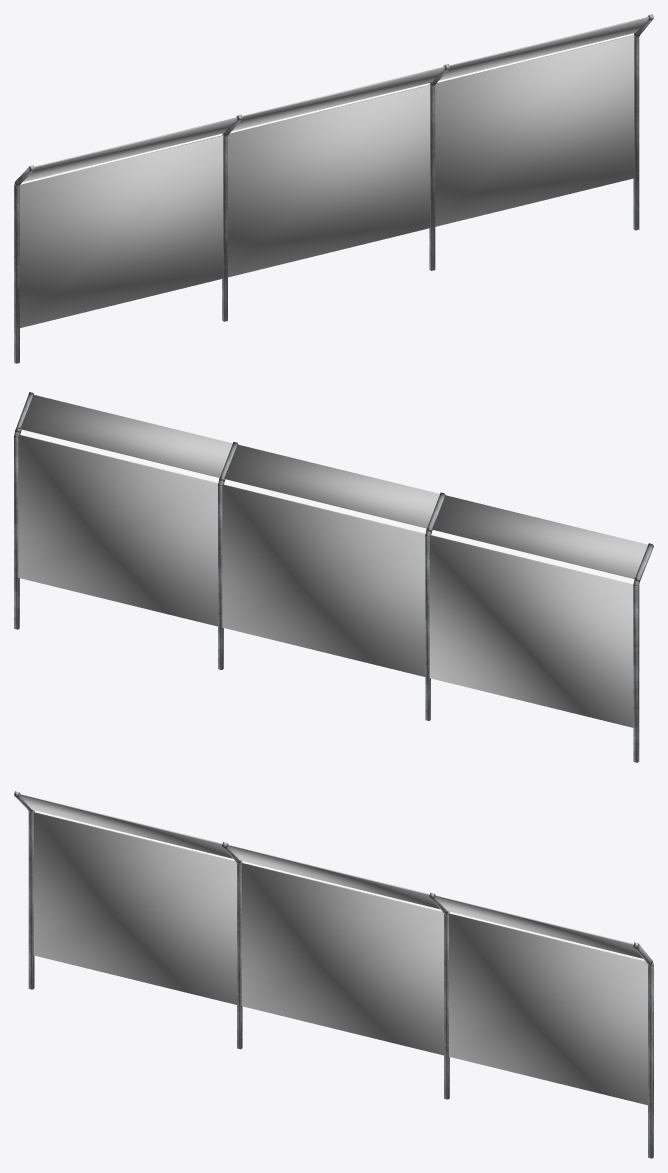
The model's file is fence1.fbx.
The picture shows the model from 3 angles, top to bottom: view 1: azimuth 30°, elevation 25°; view 2: azimuth 150°, elevation 25°; view 3: azimuth 330°, elevation 25°; orthographic projection.
Visible parts, largest first — view 1: cyclone0, barbwire0, posts0; view 2: cyclone0, barbwire0, posts0; view 3: cyclone0, barbwire0, posts0.
Boxes of the visible parts, x1,y1,x2,y2 form: cyclone0: (20,35,634,327); barbwire0: (22,17,648,182); posts0: (14,14,653,363); cyclone0: (17,434,633,727); barbwire0: (17,394,647,578); posts0: (14,392,653,762); cyclone0: (33,812,647,1105); barbwire0: (19,794,642,958); posts0: (14,791,653,1158).
Bounding box in the file's own units: 12.23 × 4.22 × 0.5678.
